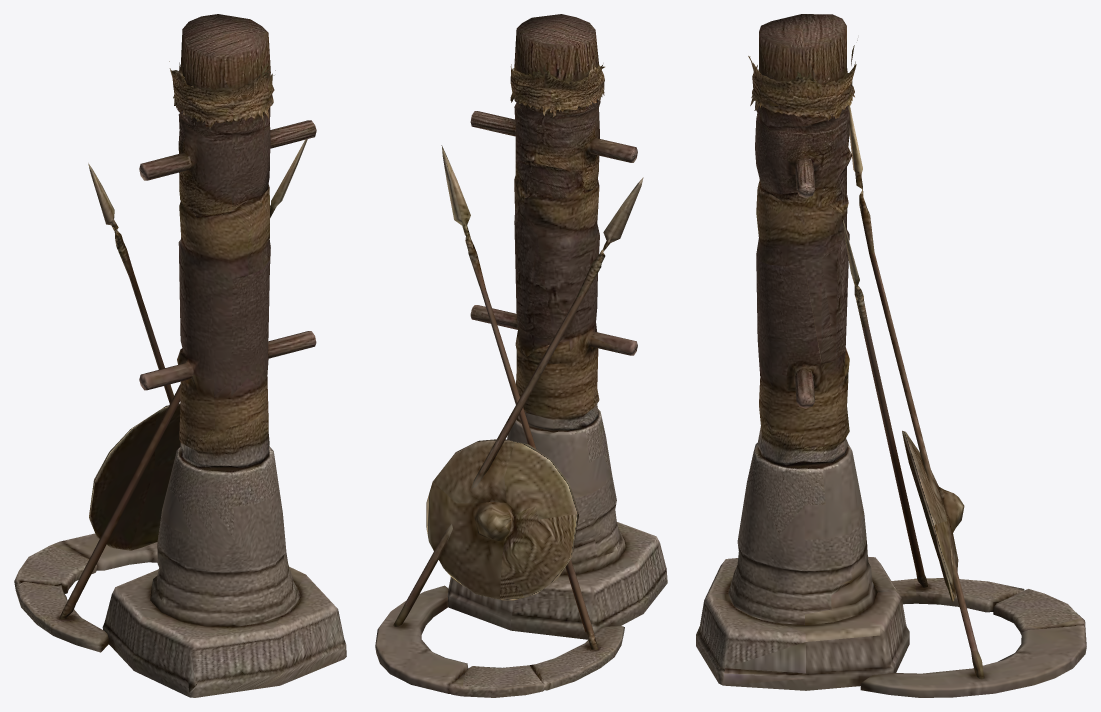
File: training_dummy.glb
3 views of the same model, side by side, from view 1: azimuth 30°, elevation 25°; view 2: azimuth 150°, elevation 25°; view 3: azimuth 270°, elevation 25° (orthographic). The views are drawn at different scales.
Parts seen in each view (by area): view 1: training_dummy; view 2: training_dummy; view 3: training_dummy.
Part boxes in pixels (x1,y1,x2,y2): training_dummy: [14, 14, 346, 697]; training_dummy: [375, 14, 667, 697]; training_dummy: [696, 14, 1086, 697].
Bounding box in the file's own units: 0.464 × 1.2 × 0.6869.
1 material, 1 textured.
